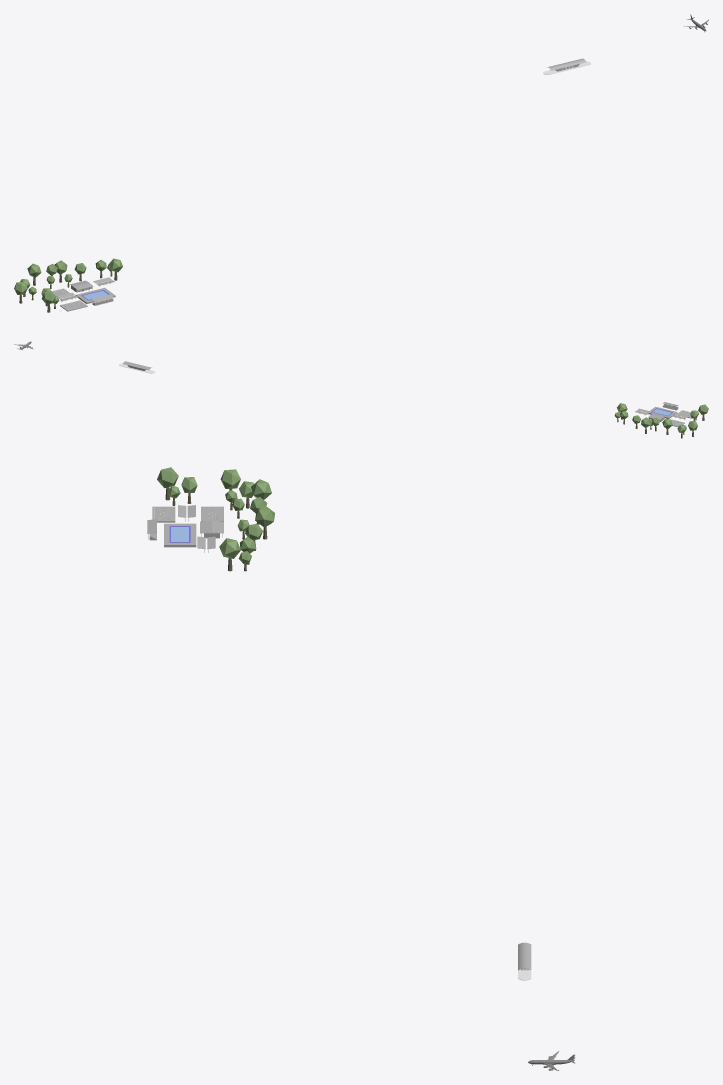
3 renders of one model, top to bottom at view 1: azimuth 30°, elevation 25°; view 2: azimuth 150°, elevation 25°; view 3: azimuth 270°, elevation 25°, orthographic. The views are drawn at different scales.
Size of the model in its own units: 7.53 by 0.2188 by 2.32.
